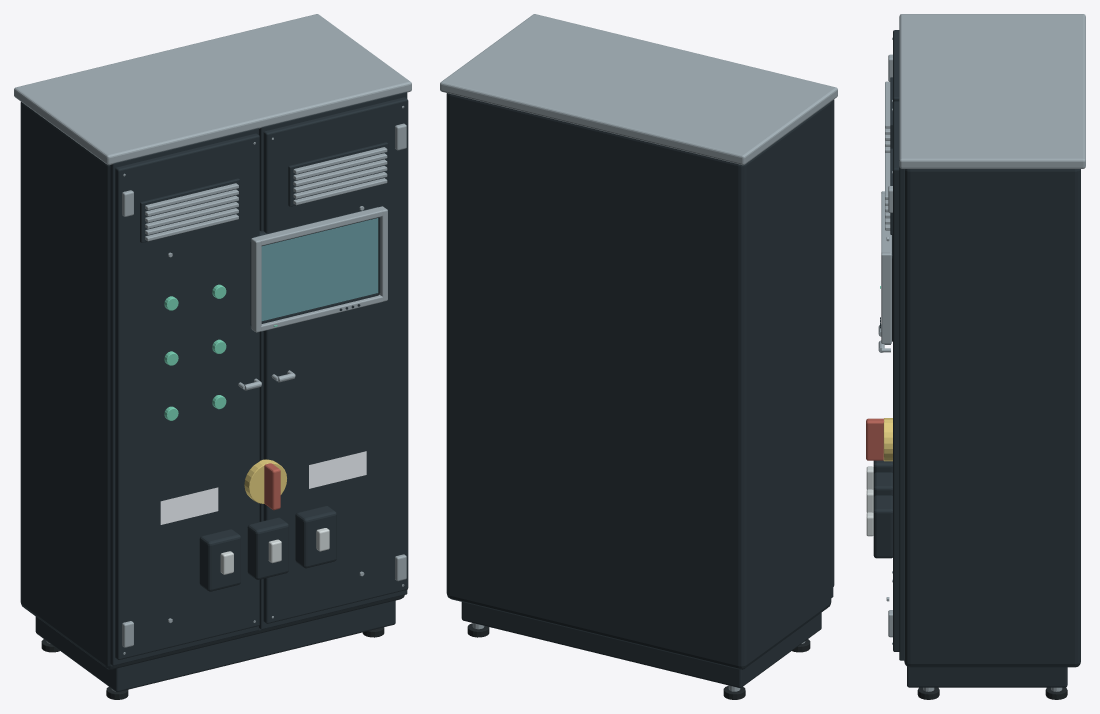
Rendered from SF_ElectricalSwitchgear.fbx.
The picture shows the model from 3 angles, left to right: view 1: azimuth 30°, elevation 25°; view 2: azimuth 150°, elevation 25°; view 3: azimuth 270°, elevation 25°; orthographic projection.
Parts seen in each view (by area): view 1: SF_ElectricalSwitchgear; view 2: SF_ElectricalSwitchgear; view 3: SF_ElectricalSwitchgear.
Part boxes in pixels (x1,y1,x2,y2): SF_ElectricalSwitchgear: [14, 14, 411, 699]; SF_ElectricalSwitchgear: [440, 14, 837, 699]; SF_ElectricalSwitchgear: [866, 14, 1085, 699].
Bounding box in the file's own units: 128 × 222 × 80.75.
